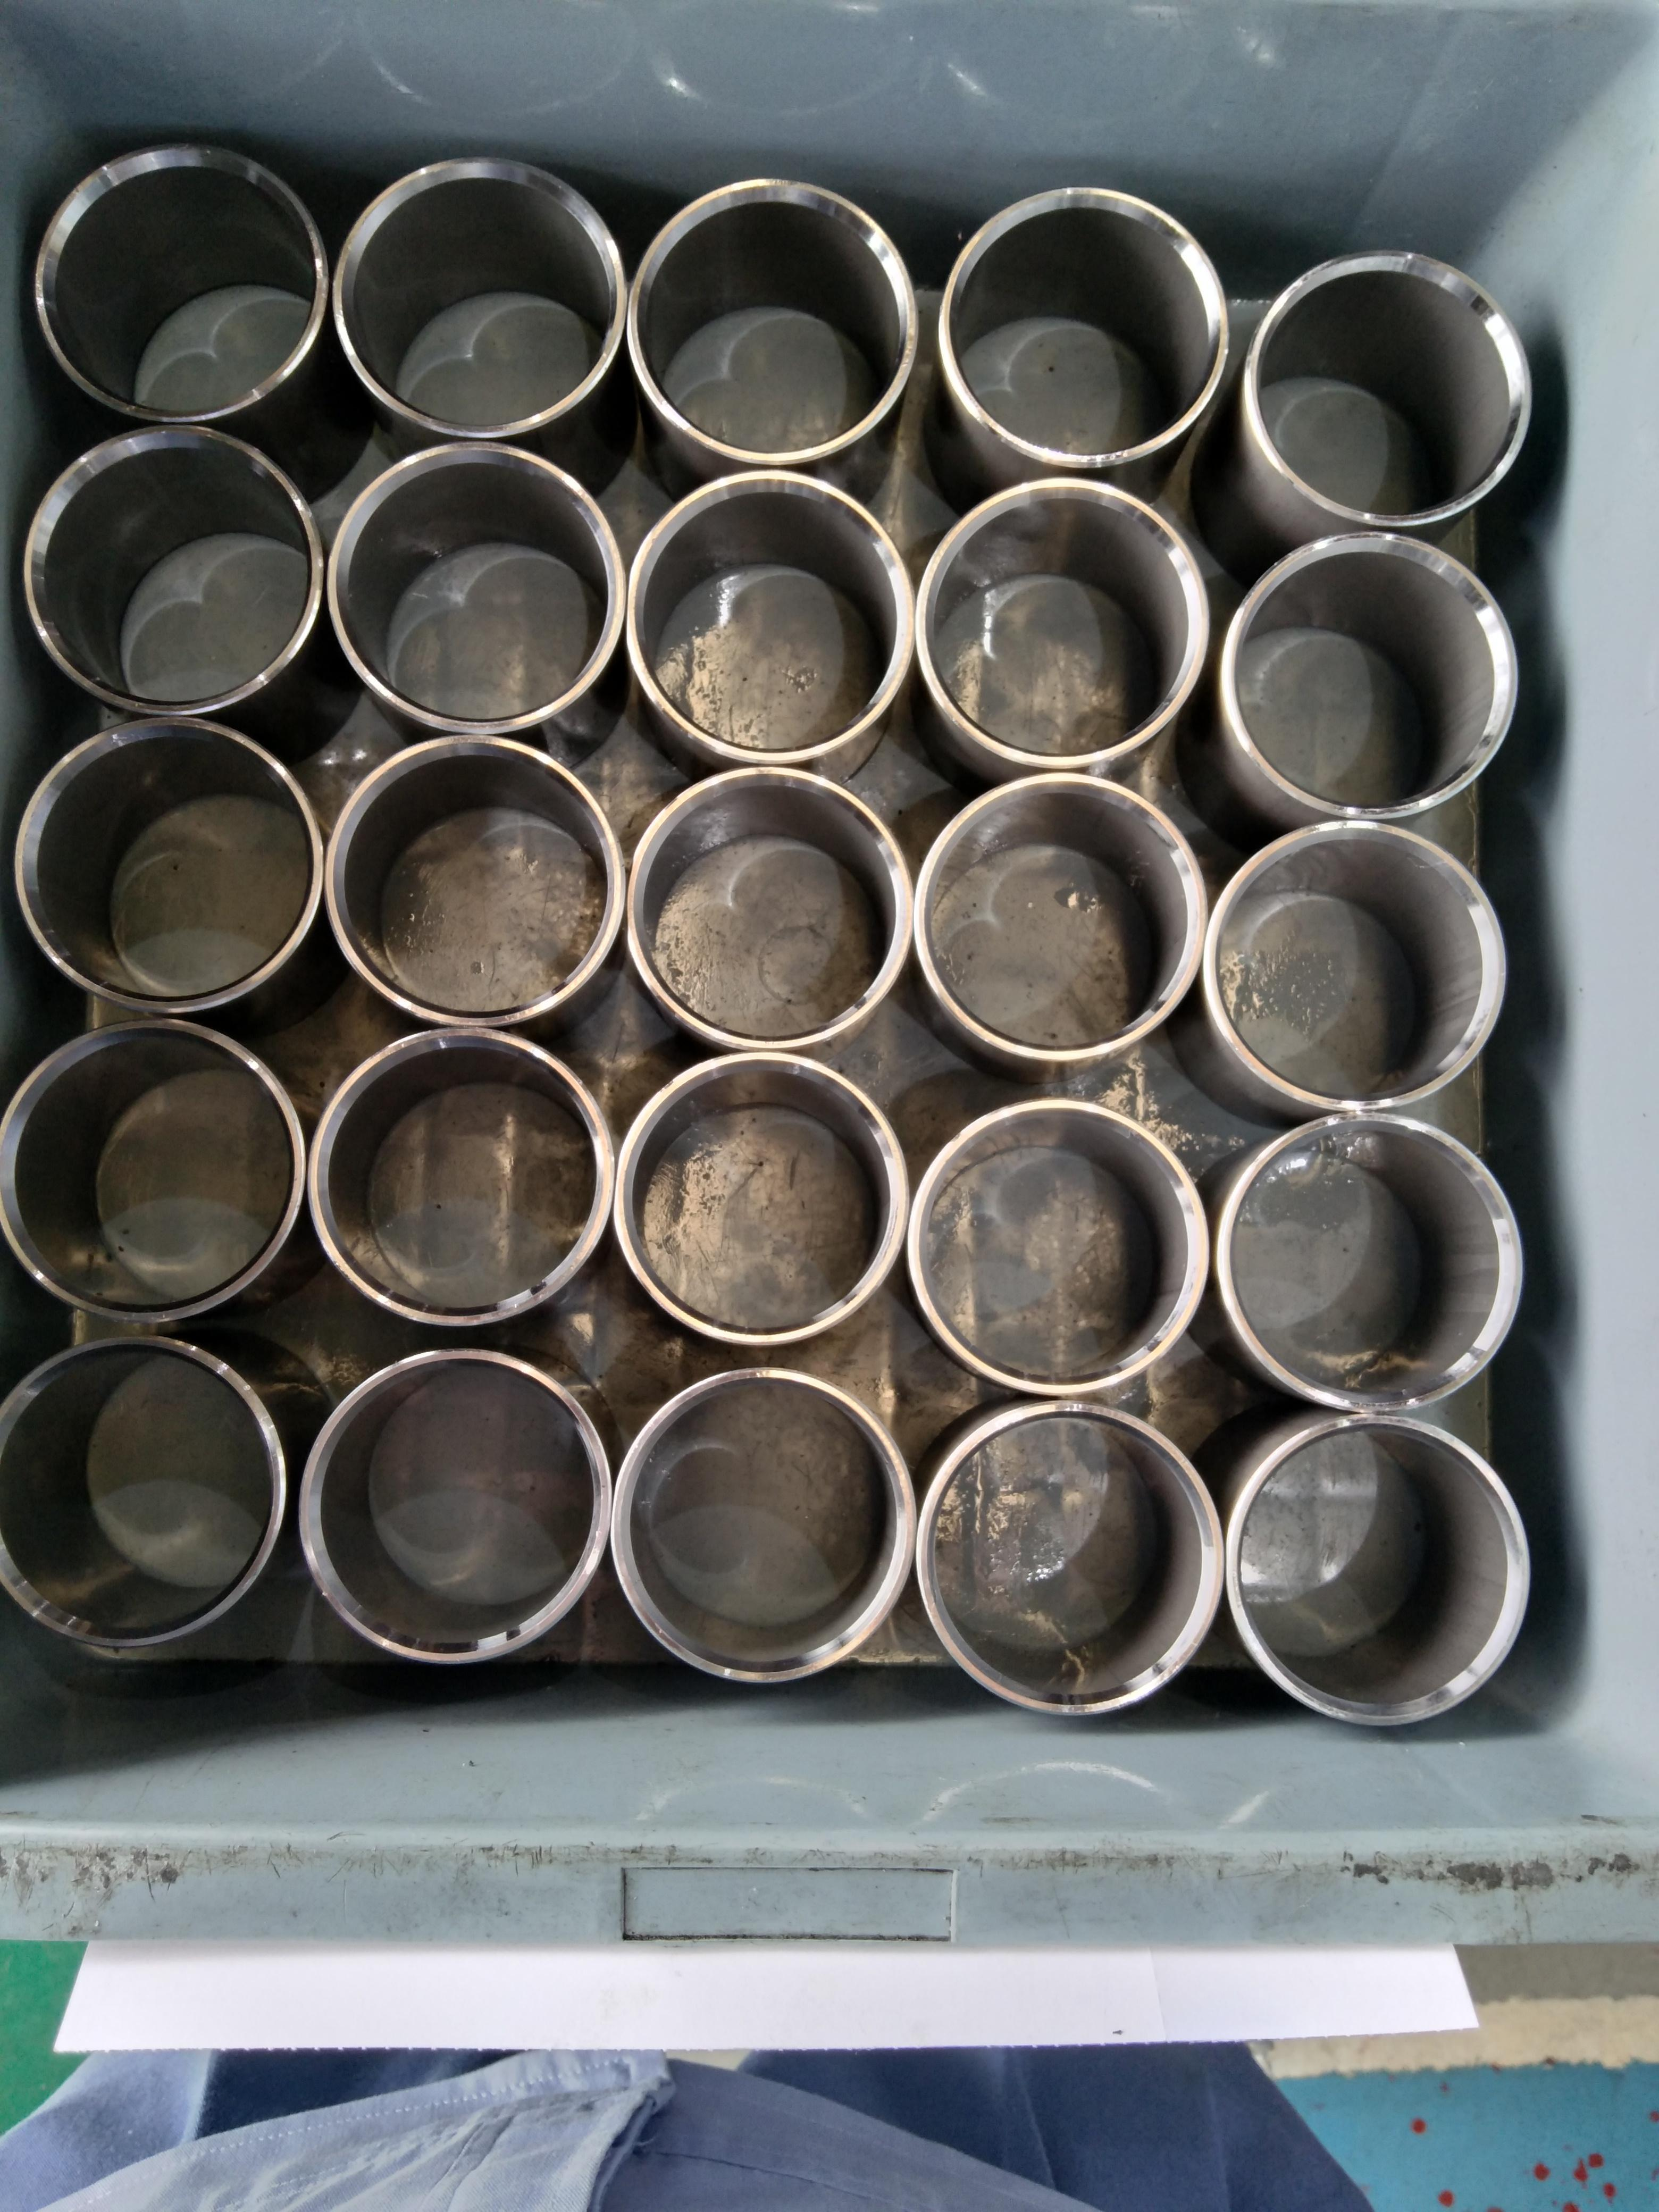pipe: (295, 1341, 615, 1669), (610, 1362, 925, 1688), (1223, 1409, 1537, 1731), (915, 1399, 1227, 1719), (1208, 1108, 1530, 1414), (9, 709, 329, 1015), (305, 1024, 619, 1332), (10, 1014, 312, 1332), (0, 1327, 289, 1656), (903, 1094, 1211, 1399), (324, 733, 631, 1033), (19, 420, 328, 718), (1201, 817, 1511, 1113), (610, 1045, 911, 1348), (915, 475, 1218, 773), (321, 439, 626, 735), (911, 770, 1209, 1071), (1218, 528, 1523, 820), (328, 148, 631, 441), (626, 172, 924, 469), (619, 761, 915, 1055), (626, 467, 918, 763), (934, 186, 1236, 474), (28, 141, 329, 427), (1244, 249, 1540, 535)
